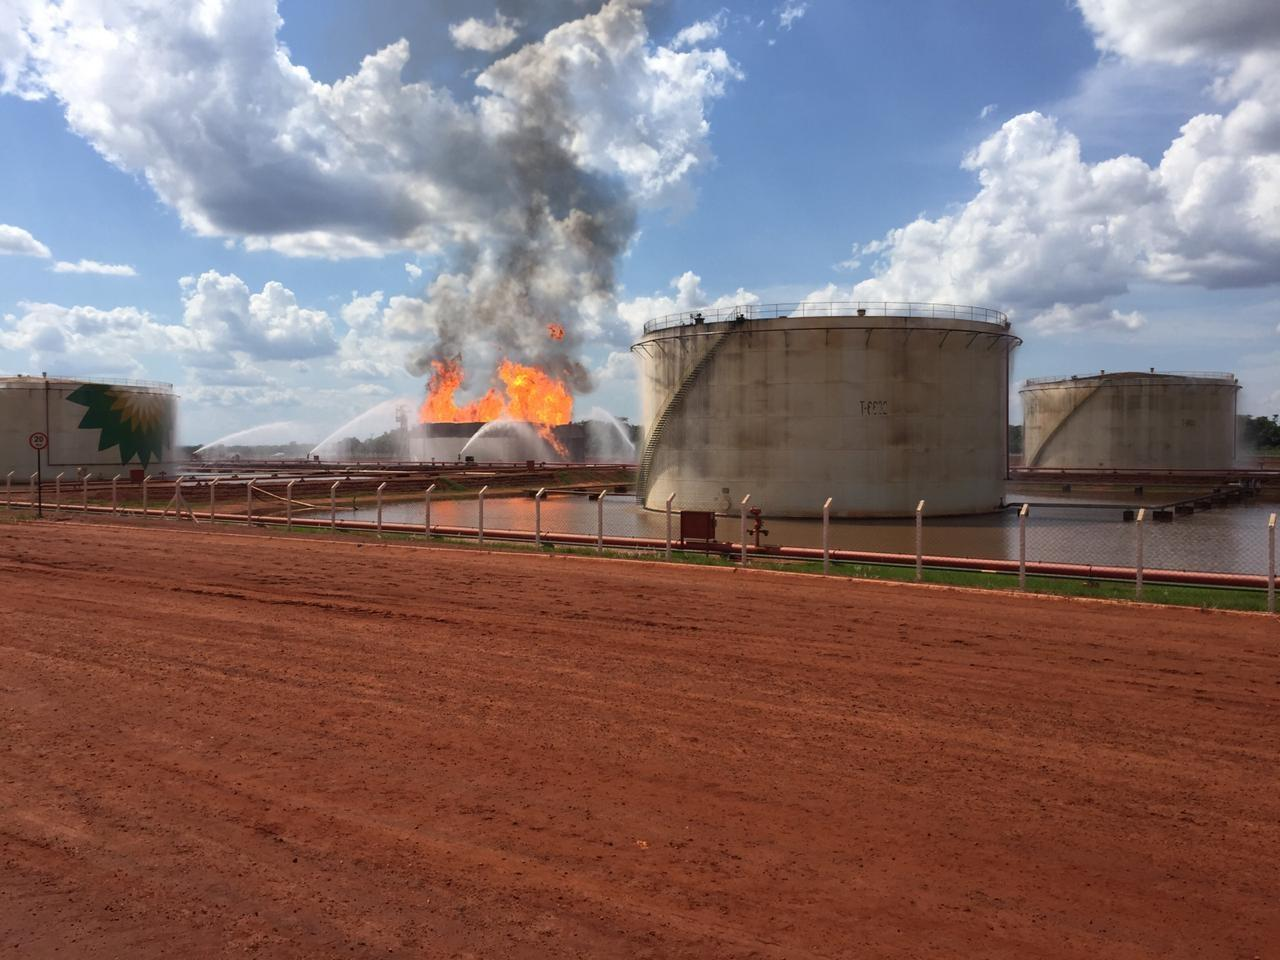fire: (432, 353, 565, 435)
